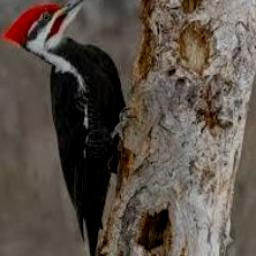Woodpecker: (1, 0, 127, 256)
